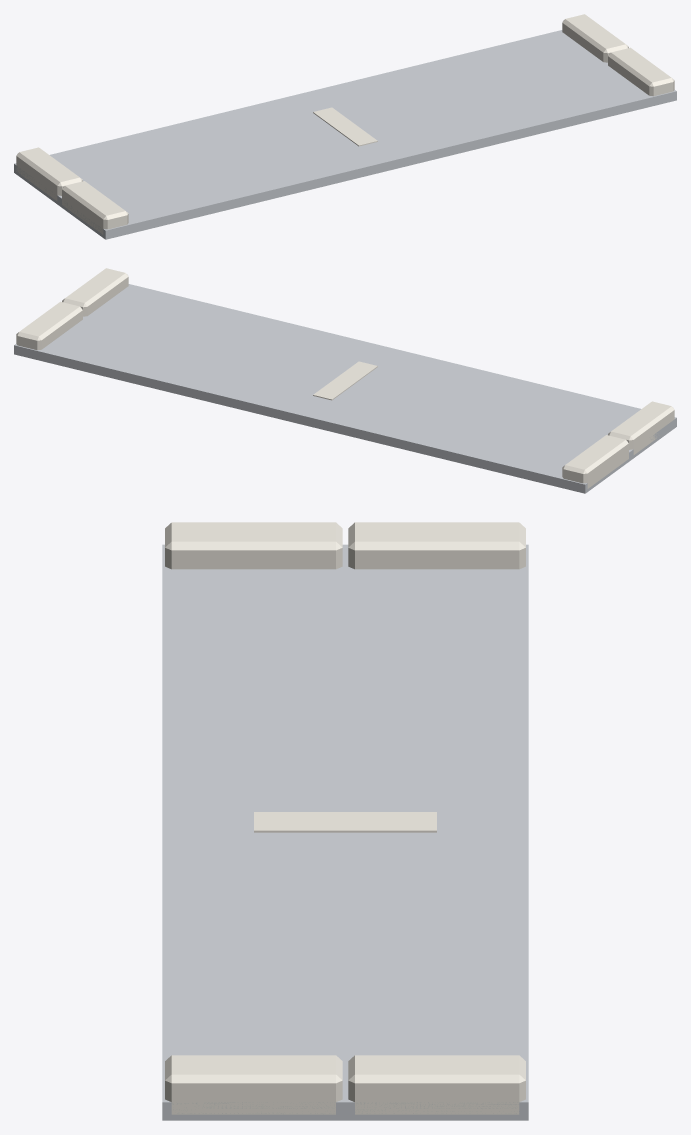
Rendered from deco_path_road.glb.
The picture shows the model from 3 angles, top to bottom: view 1: azimuth 30°, elevation 25°; view 2: azimuth 150°, elevation 25°; view 3: azimuth 270°, elevation 25°; orthographic projection. The views are drawn at different scales.
Visible parts, largest first — view 1: deco_path_road; view 2: deco_path_road; view 3: deco_path_road.
Part boxes in pixels (left/top/right/bottom): deco_path_road: left=14, top=14, right=676, bottom=239; deco_path_road: left=14, top=268, right=676, bottom=493; deco_path_road: left=162, top=522, right=528, bottom=1120.
Size of the model in its own units: 3.6 by 0.13 by 1.
1 material, 1 textured.
